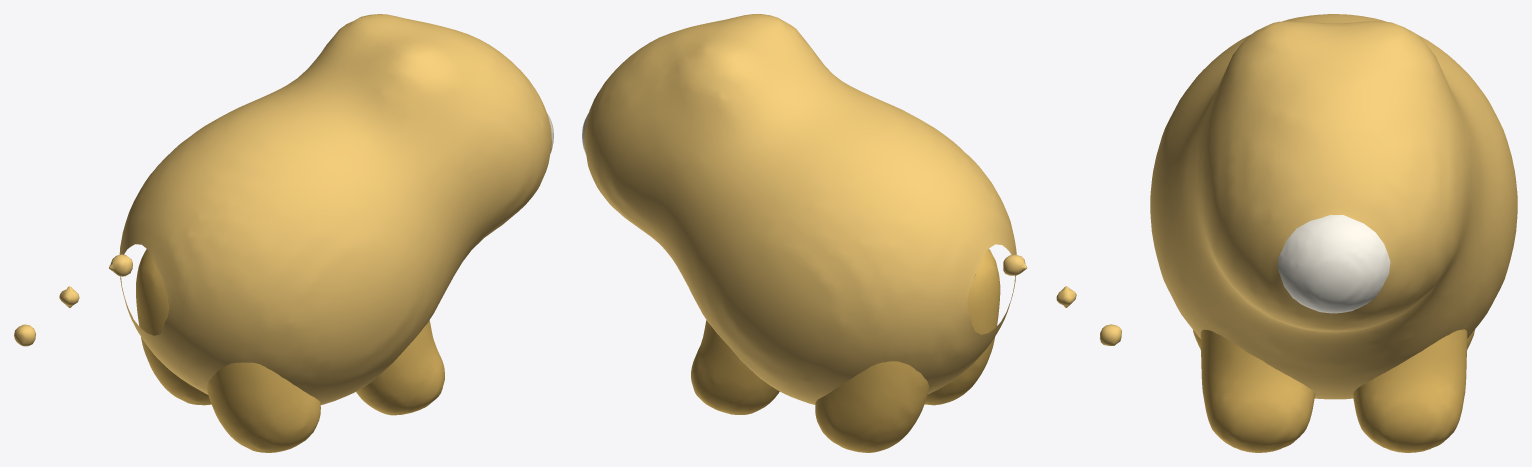
File: tiger.glb
3 views of the same model, side by side, from view 1: azimuth 30°, elevation 25°; view 2: azimuth 150°, elevation 25°; view 3: azimuth 270°, elevation 25° (orthographic). The views are drawn at different scales.
Visible parts, largest first — view 1: body, legBLMesh, legFLMesh, legBRMesh, tailMesh; view 2: body, legBRMesh, legFRMesh, legBLMesh, tailMesh; view 3: body, legFRMesh, legFLMesh, muzzle.
Part boxes in pixels (x1,y1,x2,y2): body: [119, 14, 551, 404]; legBLMesh: [207, 362, 320, 452]; legFLMesh: [356, 320, 444, 415]; legBRMesh: [136, 249, 211, 405]; tailMesh: [14, 254, 132, 346]; body: [584, 14, 1016, 404]; legBRMesh: [815, 361, 929, 452]; legFRMesh: [691, 320, 779, 414]; legBLMesh: [924, 249, 1000, 405]; tailMesh: [974, 254, 1121, 345]; body: [1150, 14, 1517, 399]; legFRMesh: [1352, 329, 1467, 452]; legFLMesh: [1200, 329, 1315, 452]; muzzle: [1278, 215, 1390, 313].
Size of the model in its own units: 2.45 by 1.56 by 1.18.
